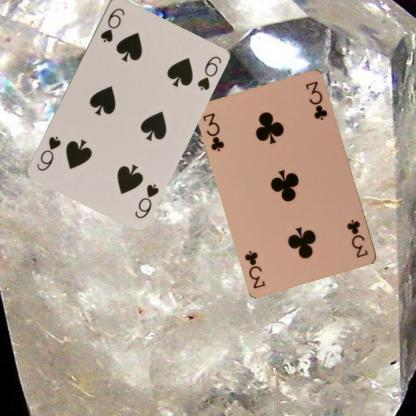3c: (200, 110, 226, 153), (344, 217, 370, 259)
6s: (98, 5, 126, 43), (132, 181, 160, 219)
